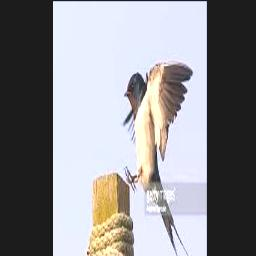Swallow: (123, 61, 203, 256)
